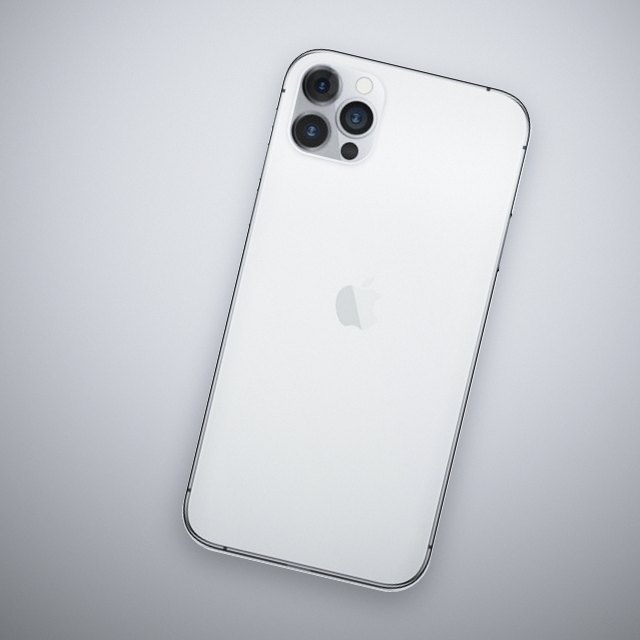iphone_12pro_silver: (157, 32, 561, 623), (287, 56, 388, 170)
